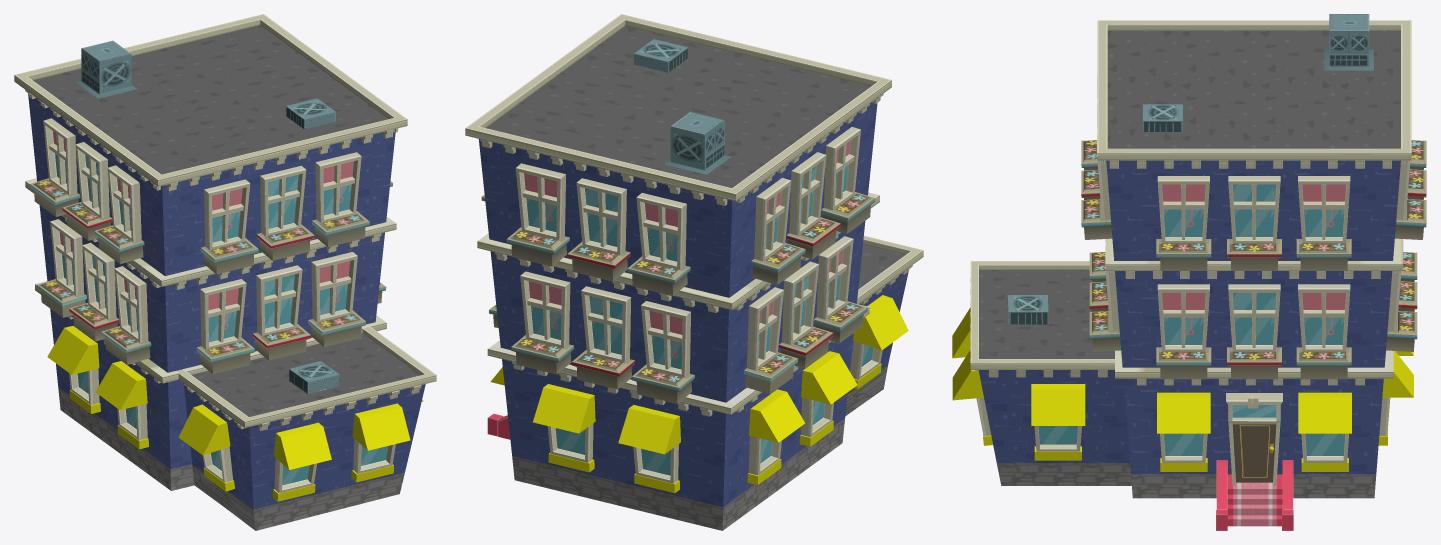
File: building.glb
3 views of the same model, side by side, from view 1: azimuth 30°, elevation 25°; view 2: azimuth 150°, elevation 25°; view 3: azimuth 270°, elevation 25° (orthographic). The views are drawn at different scales.
Parts seen in each view (by area): view 1: pCube31, pCube15, pCube2, pCube28, pCube26 (×5), pCube3 (×4), pCube11 (×4), pCube7 (×4), pCube12 (×4), pCube4 (×4), pCube8 (×4), pCube25 (×5) (+5 smaller); view 2: pCube15, pCube31, pCube26 (×5), pCube3 (×4), pCube7 (×4), pCube11 (×4), pCube4 (×4), pCube8 (×4), pCube12 (×4), pCube25 (×5), pCube43, pCube28 (+4 smaller); view 3: pCube15, pCube31, pCube28, pCube2, pCube26 (×6), pCube11 (×4), pCube3 (×4), pCube7 (×2), pCube8 (×6), pCube4 (×4), pCube12 (×4), pCube18 (+9 smaller).
Part boxes in pixels (bbox=[...]): pCube31: bbox=[14, 14, 407, 186]; pCube15: bbox=[28, 96, 395, 490]; pCube2: bbox=[183, 383, 425, 530]; pCube28: bbox=[176, 326, 436, 427]; pCube26 (×5): bbox=[47, 326, 410, 469]; pCube3 (×4): bbox=[43, 118, 250, 349]; pCube11 (×4): bbox=[107, 152, 361, 342]; pCube7 (×4): bbox=[75, 142, 306, 336]; pCube12 (×4): bbox=[94, 211, 369, 364]; pCube4 (×4): bbox=[30, 178, 258, 373]; pCube8 (×4): bbox=[62, 202, 314, 360]; pCube25 (×5): bbox=[69, 368, 395, 493]; pCube15: bbox=[478, 102, 877, 530]; pCube31: bbox=[465, 14, 891, 201]; pCube26 (×5): bbox=[533, 295, 908, 454]; pCube3 (×4): bbox=[515, 163, 791, 370]; pCube7 (×4): bbox=[576, 152, 826, 363]; pCube11 (×4): bbox=[636, 127, 860, 377]; pCube4 (×4): bbox=[506, 227, 805, 394]; pCube8 (×4): bbox=[567, 217, 840, 389]; pCube12 (×4): bbox=[627, 192, 875, 403]; pCube25 (×5): bbox=[547, 341, 882, 483]; pCube43: bbox=[664, 111, 731, 174]; pCube28: bbox=[857, 235, 923, 304]; pCube15: bbox=[1106, 160, 1400, 498]; pCube31: bbox=[1097, 20, 1411, 160]; pCube28: bbox=[970, 261, 1121, 369]; pCube2: bbox=[978, 370, 1131, 485]; pCube26 (×6): bbox=[952, 307, 1413, 433]; pCube11 (×4): bbox=[1097, 135, 1350, 351]; pCube3 (×4): bbox=[1157, 160, 1410, 351]; pCube7 (×2): bbox=[1228, 176, 1280, 351]; pCube8 (×6): bbox=[1081, 169, 1426, 379]; pCube4 (×4): bbox=[1156, 199, 1426, 379]; pCube12 (×4): bbox=[1081, 199, 1351, 379]; pCube18: bbox=[1226, 393, 1282, 485].
Size of what is drawn, in the model's own units: 0.1381 by 0.1613 by 0.1764.
Materials: 13 (13 with a texture image).
